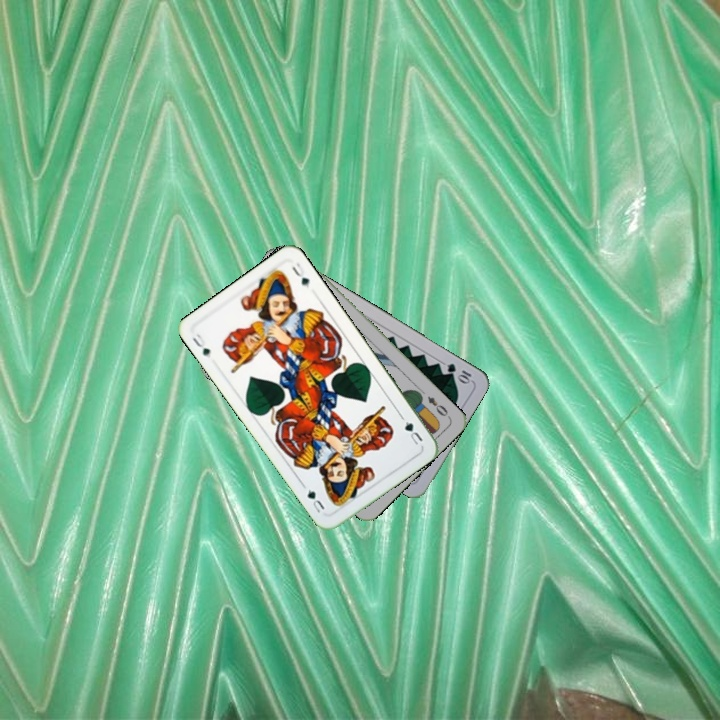EO: (423, 392, 453, 421)
G10: (443, 359, 474, 386)
GU: (188, 329, 213, 361), (400, 417, 425, 447)
